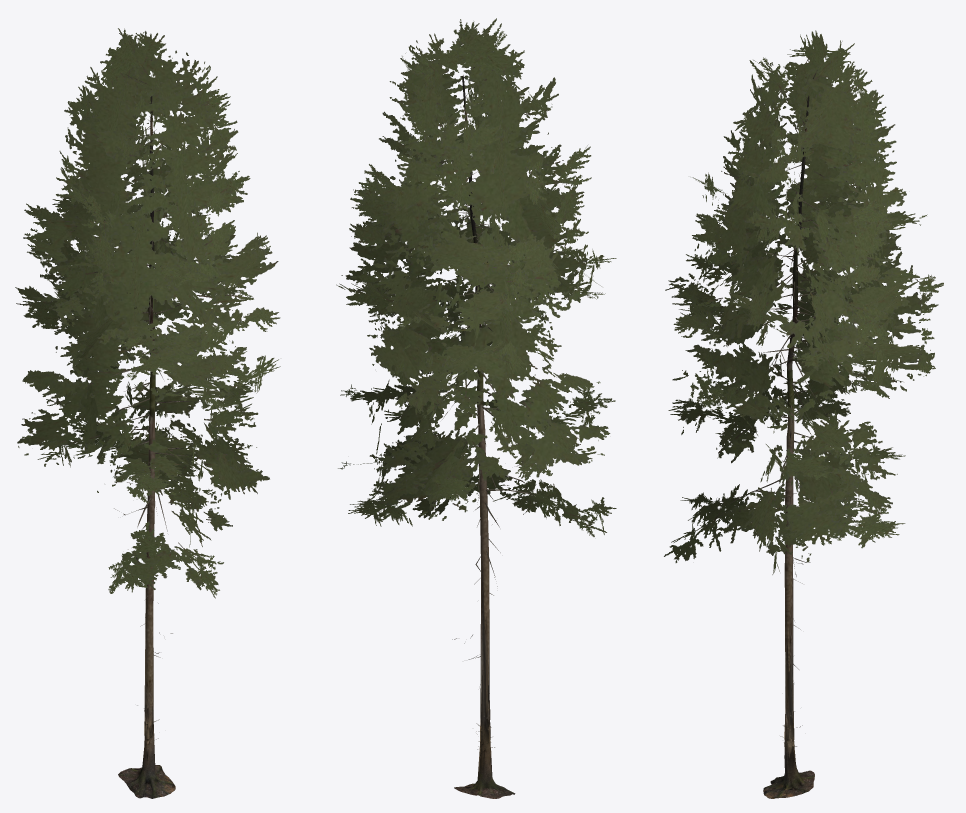
File: fir_a.glb
The picture shows the model from 3 angles, left to right: view 1: azimuth 30°, elevation 25°; view 2: azimuth 150°, elevation 25°; view 3: azimuth 270°, elevation 25°; orthographic projection. The views are drawn at different scales.
Parts seen in each view (by area): view 1: foliage, fir_tree_01_a_LOD0 (×2); view 2: foliage, fir_tree_01_a_LOD0 (×2); view 3: foliage, fir_tree_01_a_LOD0 (×2).
Part boxes in pixels (<box>): foliage: <box>15,28,280,598</box>; fir_tree_01_a_LOD0 (×2): <box>109,74,202,798</box>; foliage: <box>336,18,616,536</box>; fir_tree_01_a_LOD0 (×2): <box>432,67,535,798</box>; foliage: <box>664,30,943,574</box>; fir_tree_01_a_LOD0 (×2): <box>729,70,831,798</box>.
Size of the model in its own units: 6.67 by 18.92 by 6.69.
Materials: 3 (3 with a texture image).
